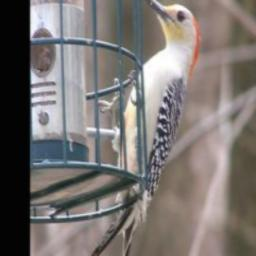Woodpecker: (83, 0, 202, 256)
